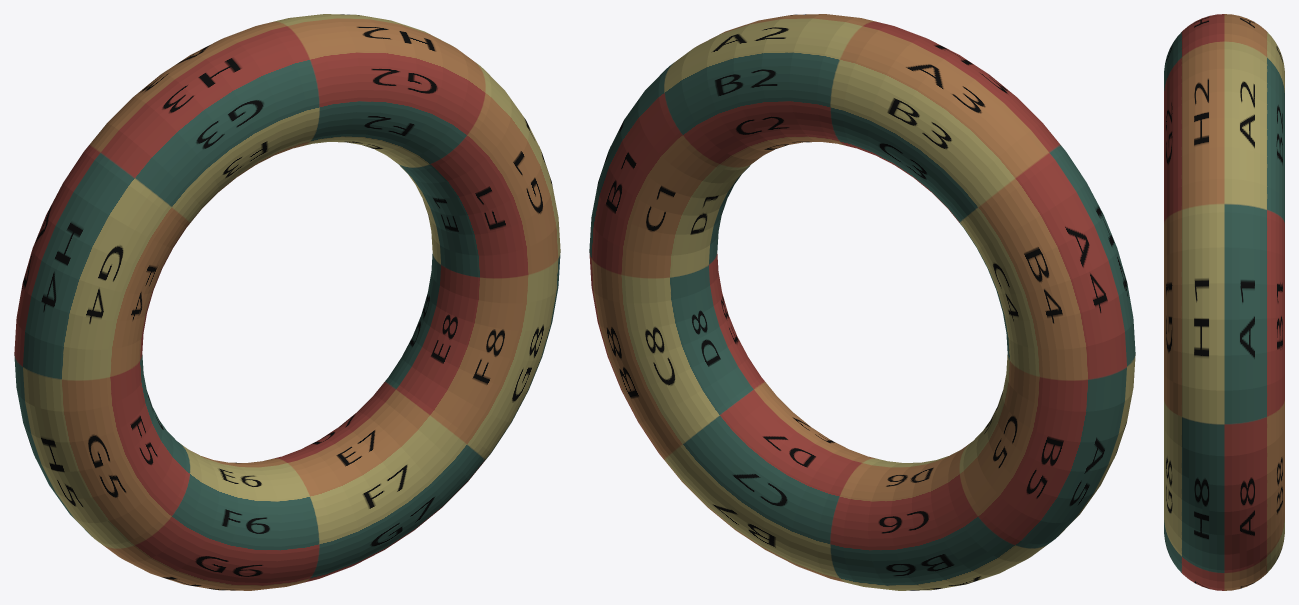
File: texture_torus_R28_r21.glb
3 renders of one model, left to right at view 1: azimuth 30°, elevation 25°; view 2: azimuth 150°, elevation 25°; view 3: azimuth 270°, elevation 25°, orthographic. The views are drawn at different scales.
Parts seen in each view (by area): view 1: world; view 2: world; view 3: world.
Part boxes in pixels (x1,y1,x2,y2): world: [14, 14, 560, 590]; world: [589, 14, 1135, 590]; world: [1164, 14, 1284, 590].
Bounding box in the file's own units: 36.27 × 36.2 × 7.59.
Materials: 1 (1 with a texture image).
